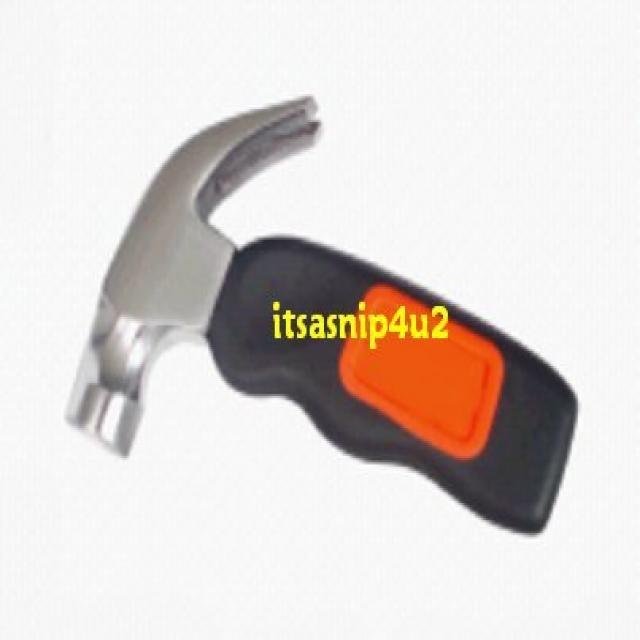hammer: (56, 79, 586, 548)
